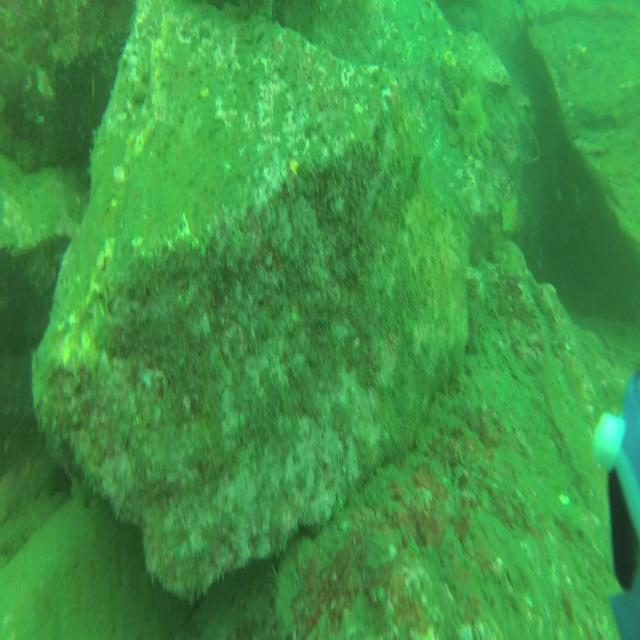starfish: (498, 189, 522, 239)
